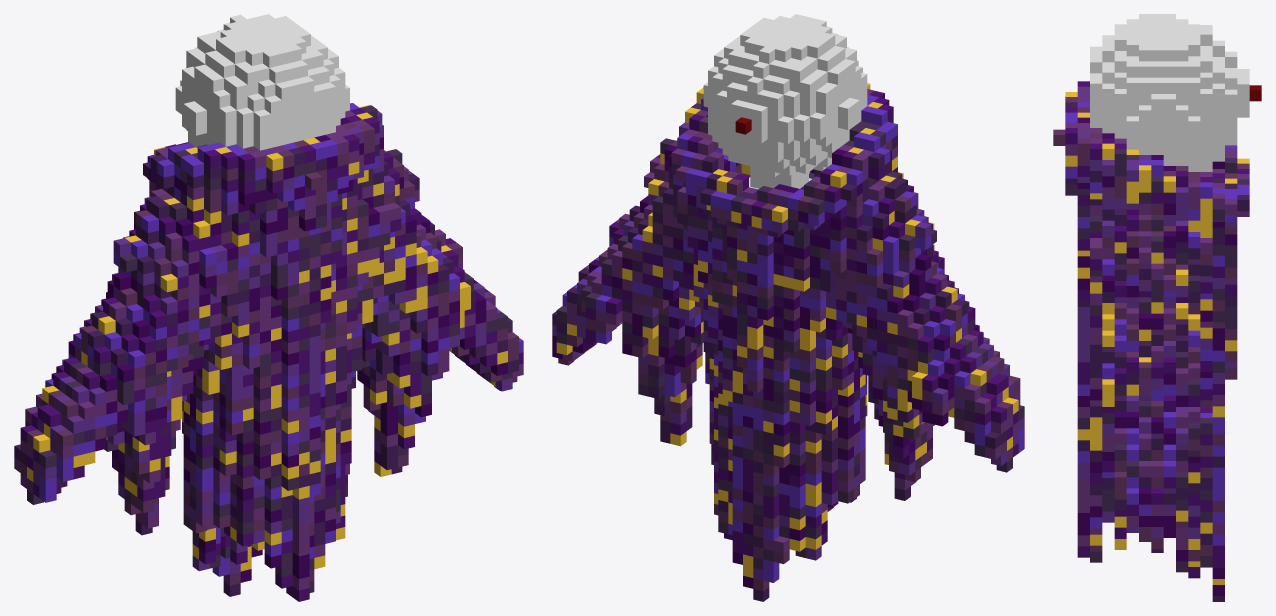
Rendered from One Eyed Wizard.obj.
The picture shows the model from 3 angles, left to right: view 1: azimuth 30°, elevation 25°; view 2: azimuth 150°, elevation 25°; view 3: azimuth 270°, elevation 25°; orthographic projection. The views are drawn at different scales.
Size of the model in its own units: 4.4 by 5.1 by 1.7.
Materials: 1 (1 with a texture image).
